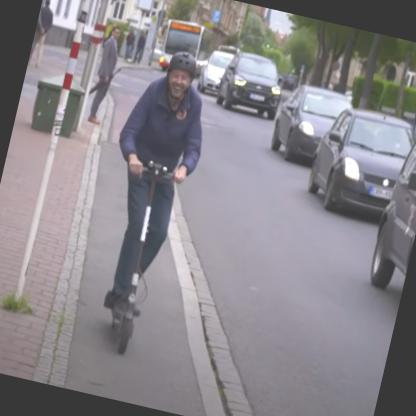helmet: (166, 51, 198, 96)
human: (110, 49, 202, 309)
kickboard: (110, 302, 142, 354)
